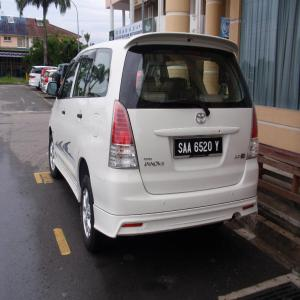Vehicle-registration-plate: (175, 139, 224, 160)
